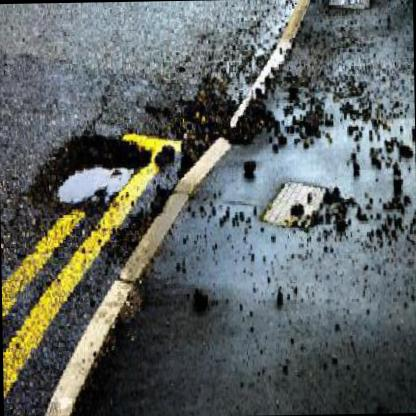pothole: (29, 130, 154, 215)
